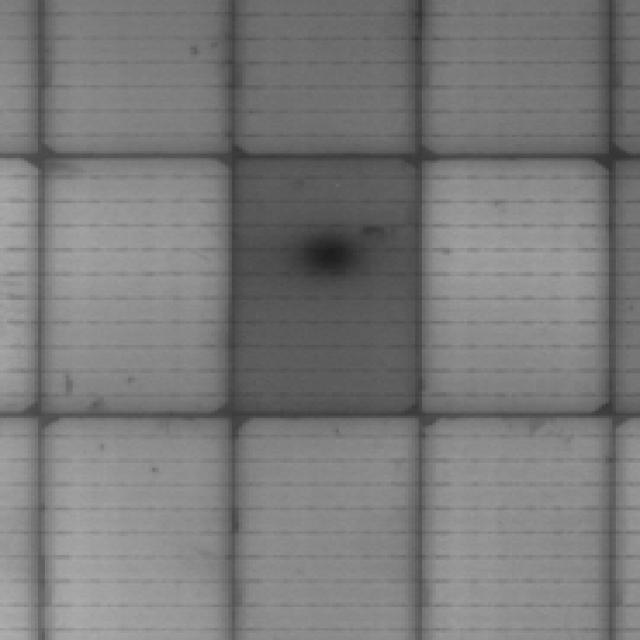BLACK SPOT: (287, 218, 358, 282)
